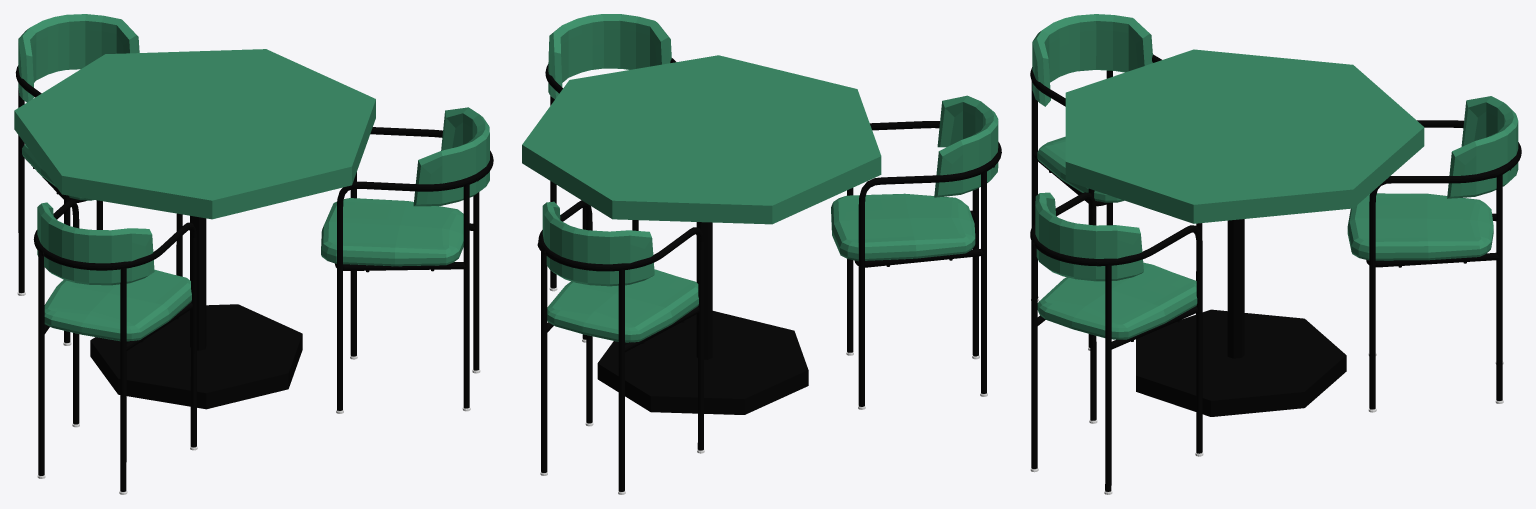
The model's file is mesa.fbx.
The picture shows the model from 3 angles, left to right: view 1: azimuth 30°, elevation 25°; view 2: azimuth 150°, elevation 25°; view 3: azimuth 270°, elevation 25°; orthographic projection. The views are drawn at different scales.
Visible parts, largest first — view 1: Cylinder.002, Cylinder, Lenox_dining_chair_023.001, Lenox_dining_chair_022.001, Lenox_dining_chair_022.002, Lenox_dining_chair_023.002, Lenox_dining_chair_024, Lenox_dining_chair_024.002, Lenox_dining_chair_024.001, Lenox_dining_chair_022, Cylinder.001; view 2: Cylinder.002, Cylinder, Lenox_dining_chair_023.002, Lenox_dining_chair_022, Lenox_dining_chair_023, Lenox_dining_chair_022.002, Lenox_dining_chair_024.001, Lenox_dining_chair_024, Lenox_dining_chair_024.002, Cylinder.001, Lenox_dining_chair_022.001; view 3: Cylinder.002, Cylinder, Lenox_dining_chair_023, Lenox_dining_chair_022.001, Lenox_dining_chair_023.001, Lenox_dining_chair_024.002, Lenox_dining_chair_024.001, Lenox_dining_chair_022, Lenox_dining_chair_024, Cylinder.001, Lenox_dining_chair_022.002, Lenox_dining_chair_023.002.
Part boxes in pixels (left/top/right/bottom): Cylinder.002: left=14, top=49, right=375, bottom=219; Cylinder: left=90, top=304, right=302, bottom=409; Lenox_dining_chair_023.001: left=321, top=198, right=463, bottom=266; Lenox_dining_chair_022.001: left=335, top=127, right=493, bottom=410; Lenox_dining_chair_022.002: left=33, top=199, right=196, bottom=491; Lenox_dining_chair_023.002: left=44, top=269, right=191, bottom=341; Lenox_dining_chair_024: left=18, top=14, right=139, bottom=102; Lenox_dining_chair_024.002: left=37, top=202, right=154, bottom=285; Lenox_dining_chair_024.001: left=413, top=107, right=489, bottom=206; Lenox_dining_chair_022: left=15, top=65, right=182, bottom=342; Cylinder.001: left=190, top=215, right=206, bottom=350; Cylinder.002: left=522, top=55, right=881, bottom=224; Cylinder: left=597, top=311, right=808, bottom=414; Lenox_dining_chair_023.002: left=831, top=193, right=975, bottom=261; Lenox_dining_chair_022: left=537, top=200, right=704, bottom=491; Lenox_dining_chair_023: left=547, top=269, right=698, bottom=342; Lenox_dining_chair_022.002: left=847, top=121, right=1001, bottom=406; Lenox_dining_chair_024.001: left=548, top=14, right=671, bottom=99; Lenox_dining_chair_024: left=542, top=201, right=654, bottom=286; Lenox_dining_chair_024.002: left=934, top=95, right=998, bottom=197; Cylinder.001: left=696, top=222, right=712, bottom=359; Lenox_dining_chair_022.001: left=545, top=58, right=676, bottom=339; Cylinder.002: left=1065, top=49, right=1424, bottom=223; Cylinder: left=1136, top=309, right=1346, bottom=416; Lenox_dining_chair_023: left=1347, top=193, right=1493, bottom=260; Lenox_dining_chair_022.001: left=1030, top=192, right=1202, bottom=491; Lenox_dining_chair_023.001: left=1037, top=262, right=1197, bottom=339; Lenox_dining_chair_024.002: left=1032, top=14, right=1152, bottom=106; Lenox_dining_chair_024.001: left=1035, top=192, right=1143, bottom=281; Lenox_dining_chair_022: left=1366, top=120, right=1521, bottom=409; Lenox_dining_chair_024: left=1447, top=96, right=1518, bottom=198; Cylinder.001: left=1227, top=219, right=1244, bottom=358; Lenox_dining_chair_022.002: left=1030, top=54, right=1202, bottom=347; Lenox_dining_chair_023.002: left=1037, top=136, right=1124, bottom=202.
Size of the model in its own units: 173 by 98.15 by 164.
